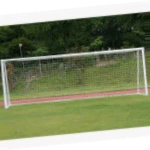goals: (1, 46, 150, 108)
